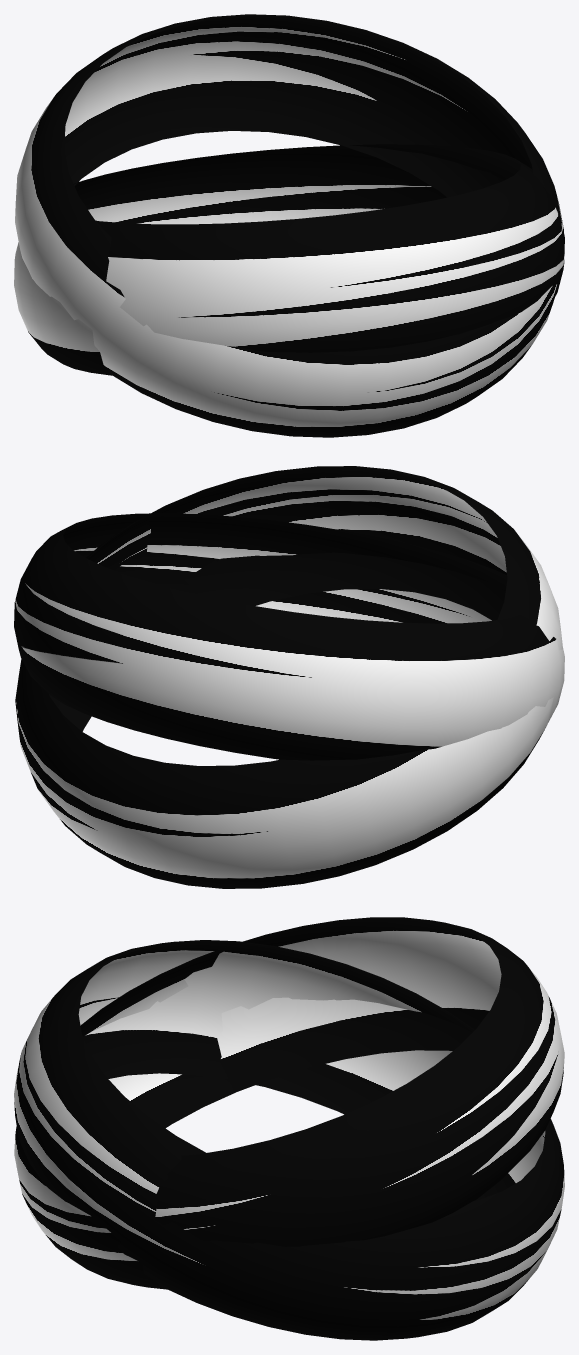
File: ME_TorusBurst.fbx
The picture shows the model from 3 angles, top to bottom: view 1: azimuth 30°, elevation 25°; view 2: azimuth 150°, elevation 25°; view 3: azimuth 270°, elevation 25°; orthographic projection.
Visible parts, largest first — view 1: ME_TorusBurst; view 2: ME_TorusBurst; view 3: ME_TorusBurst.
Boxes of the visible parts, bbox=[...] form: ME_TorusBurst: bbox=[14, 14, 564, 437]; ME_TorusBurst: bbox=[14, 466, 564, 888]; ME_TorusBurst: bbox=[14, 917, 564, 1340].
Size of the model in its own units: 5 by 2.92 by 4.88.
Materials: 1 (1 with a texture image).
